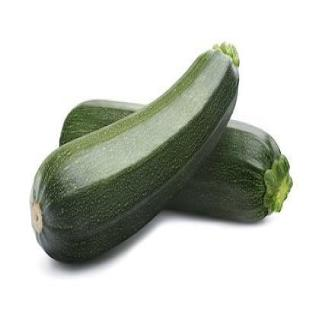Zucchini: (31, 45, 238, 261), (166, 120, 292, 221)
